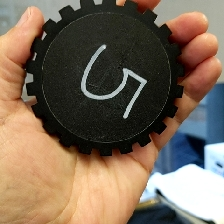gear: (24, 1, 186, 157)
